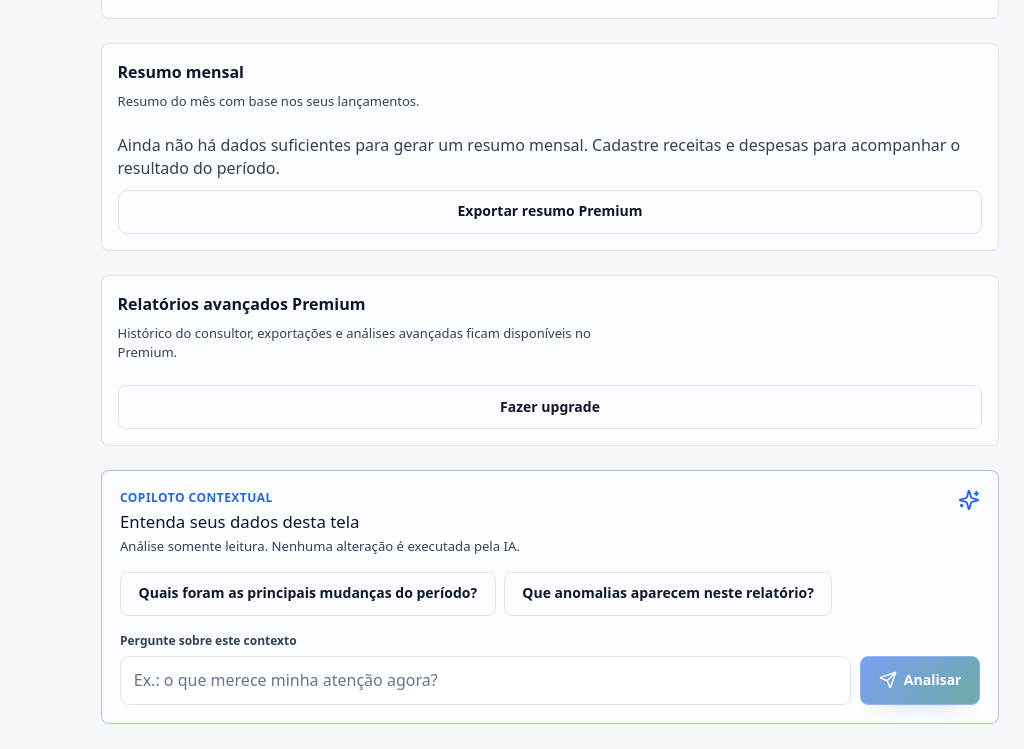
Test: Release 3 contextual assistant › explains report anomalies without changing financial state
The image size is (1024, 749).
(page scrolled)
Type "Quais anomalias aparecem?" into the field with test id "ai-assist-input" at coordinates (486, 680), box 120,656 -> 851,704
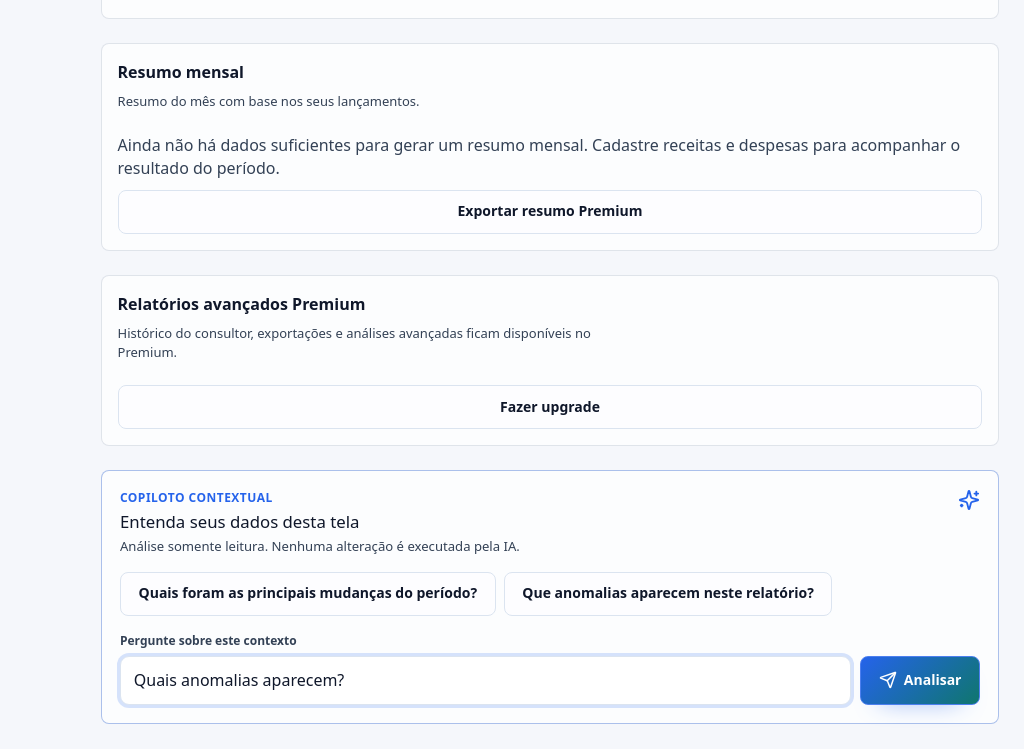
Click the button with test id "ai-assist-submit" at coordinates (920, 680), box 860,656 -> 980,704
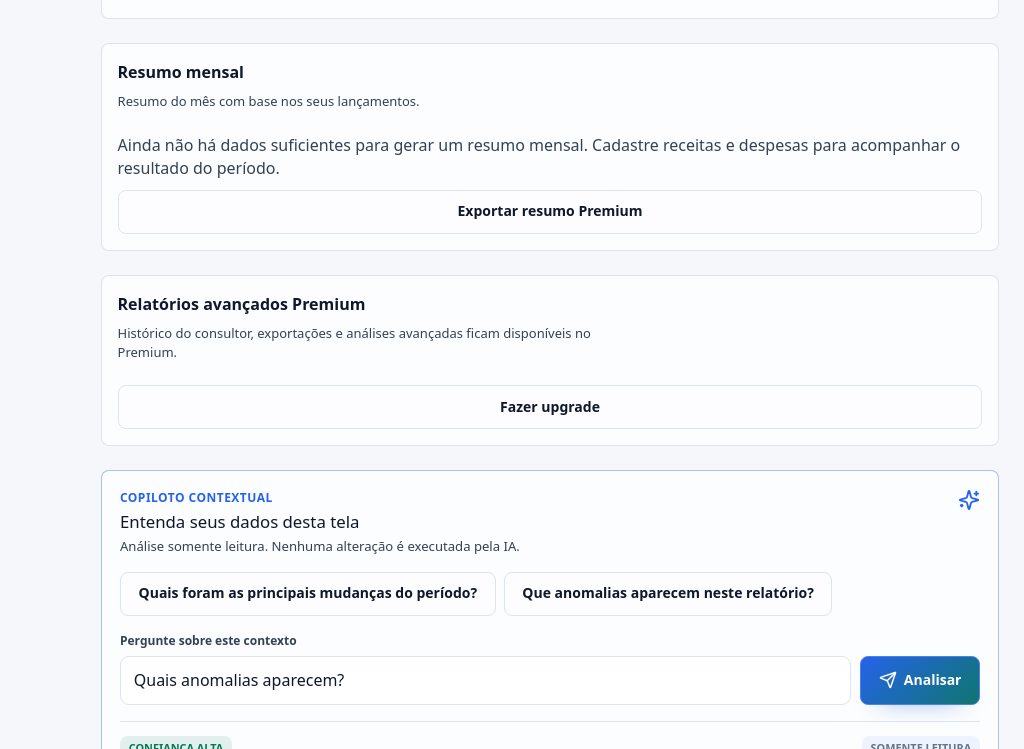
Expected: the element with test id "ai-assist-result" shows "Mercado", 120,721 -> 980,748
